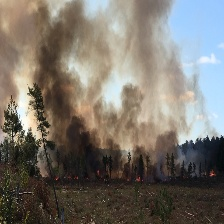fire: (135, 176, 143, 183), (208, 169, 215, 176), (53, 175, 60, 180), (95, 170, 100, 175), (74, 174, 77, 181)
smoke: (1, 1, 200, 164)
